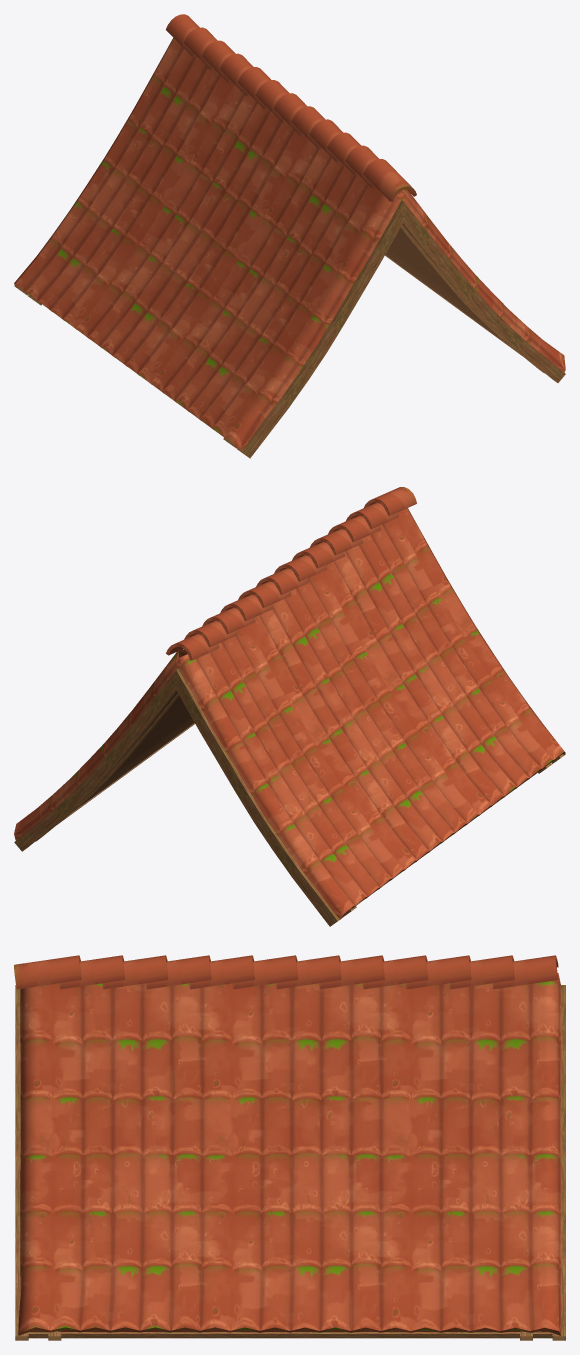
The model's file is Roof_RoundTiles_6x8.gltf.
3 renders of one model, top to bottom at view 1: azimuth 30°, elevation 25°; view 2: azimuth 150°, elevation 25°; view 3: azimuth 270°, elevation 25°, orthographic. The views are drawn at different scales.
Parts seen in each view (by area): view 1: Roof_RoundTiles_6x8; view 2: Roof_RoundTiles_6x8; view 3: Roof_RoundTiles_6x8.
Part boxes in pixels (left/top/right/bottom): Roof_RoundTiles_6x8: left=14, top=14, right=565, bottom=458; Roof_RoundTiles_6x8: left=14, top=487, right=565, bottom=926; Roof_RoundTiles_6x8: left=14, top=955, right=565, bottom=1340.
Bounding box in the file's own units: 8.25 × 5.67 × 9.68.
Materials: 2 (2 with a texture image).
